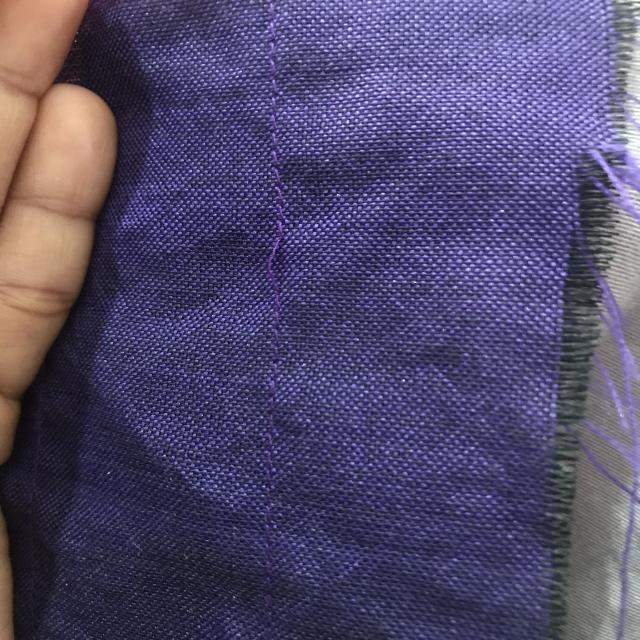good: (265, 49, 296, 176)
skip: (240, 218, 298, 300)
